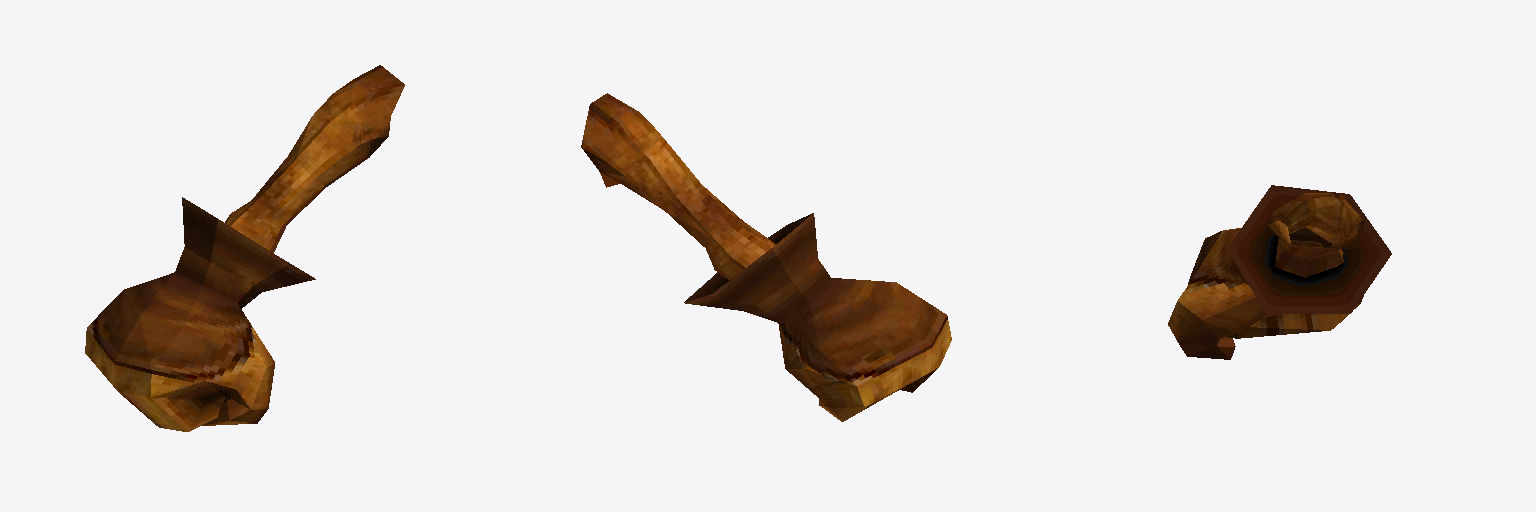
3 renders of one model, left to right at view 1: azimuth 30°, elevation 25°; view 2: azimuth 150°, elevation 25°; view 3: azimuth 270°, elevation 25°, orthographic.
Parts seen in each view (by area): view 1: nodes_27__meshes[2]; view 2: nodes_27__meshes[2]; view 3: nodes_27__meshes[2].
Boxes of the visible parts, x1=… form: nodes_27__meshes[2]: x1=85, y1=65, x2=404, y2=431; nodes_27__meshes[2]: x1=581, y1=93, x2=951, y2=421; nodes_27__meshes[2]: x1=1168, y1=185, x2=1391, y2=359.
Size of the model in its own units: 9.87 by 8.18 by 6.19.
5 materials, 2 textured.